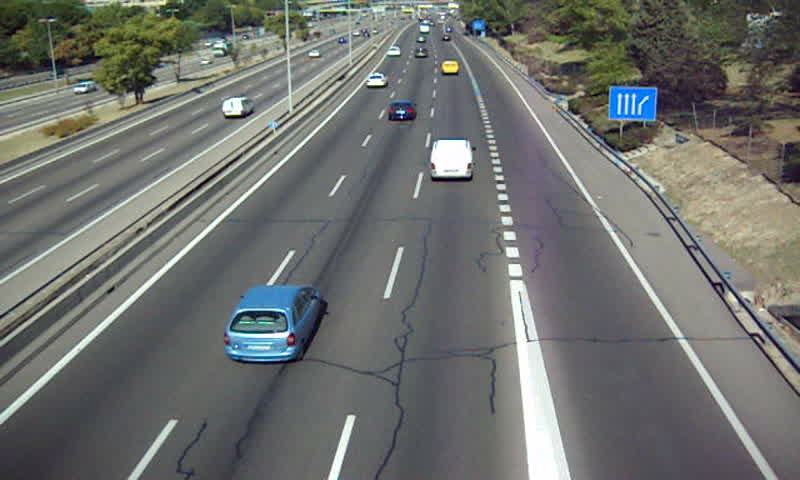car: (223, 283, 323, 362), (388, 101, 416, 122), (363, 73, 387, 90), (385, 44, 402, 58), (413, 45, 429, 59)
van: (430, 140, 473, 179), (440, 60, 460, 76)
